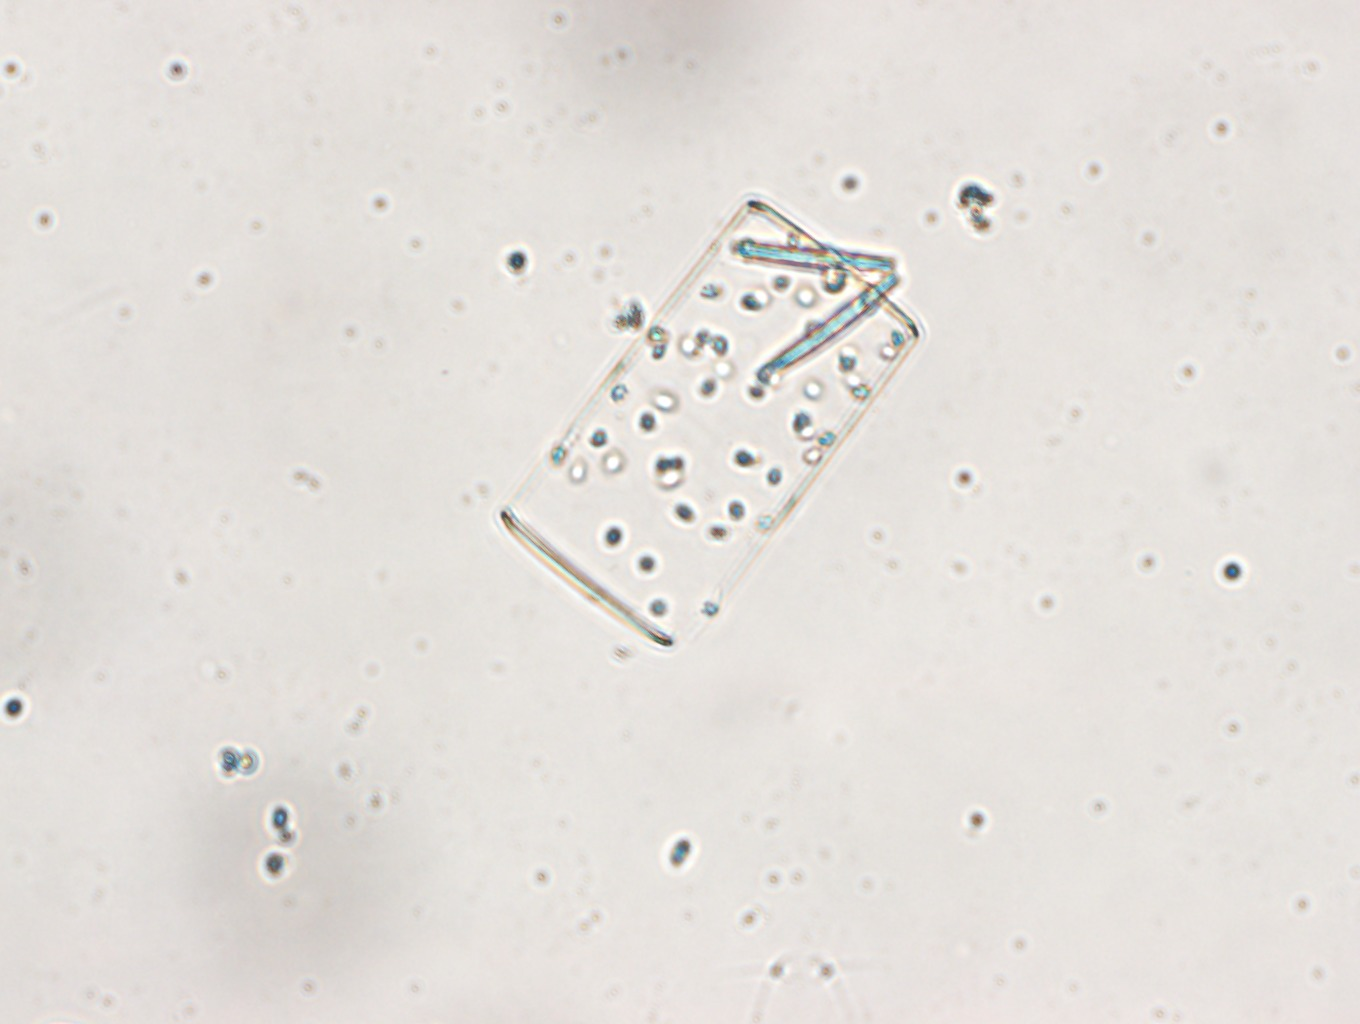guinardia flaccida: (497, 198, 920, 649)
